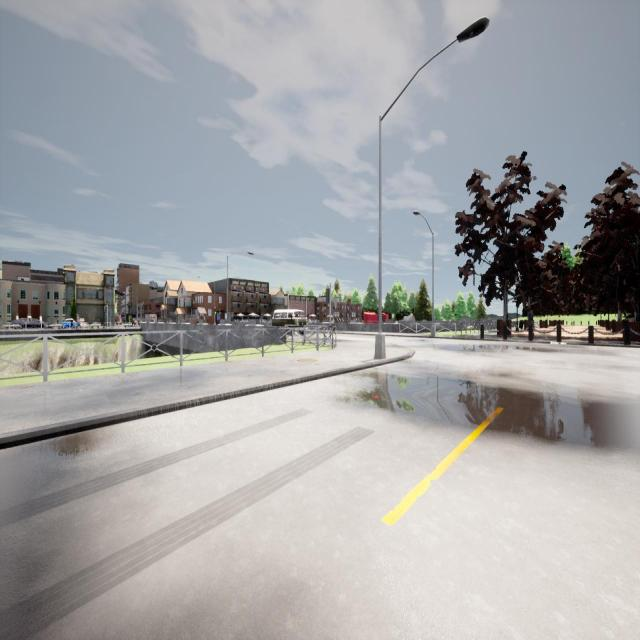Pedestrian: (526, 307, 533, 339)
Vehicle: (273, 310, 308, 326), (12, 317, 44, 328), (62, 318, 78, 328)
traffic_light: (326, 288, 330, 304), (104, 306, 107, 314), (214, 309, 216, 314)
